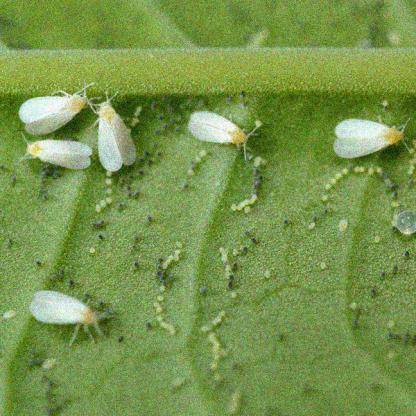whitefly: (330, 119, 404, 159), (20, 95, 88, 137), (99, 102, 137, 171), (30, 290, 99, 326), (186, 111, 248, 145), (28, 139, 93, 168)
